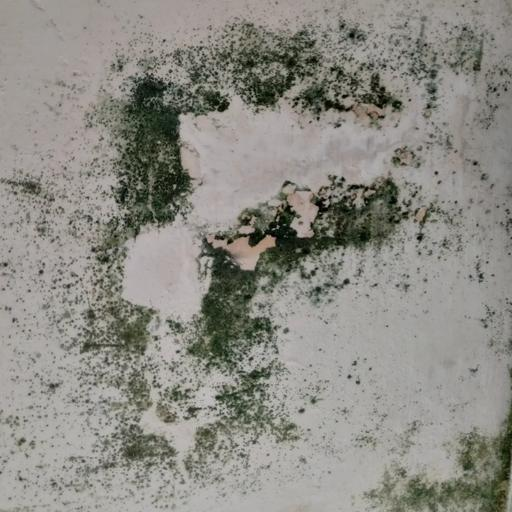algae: (39, 37, 419, 461)
